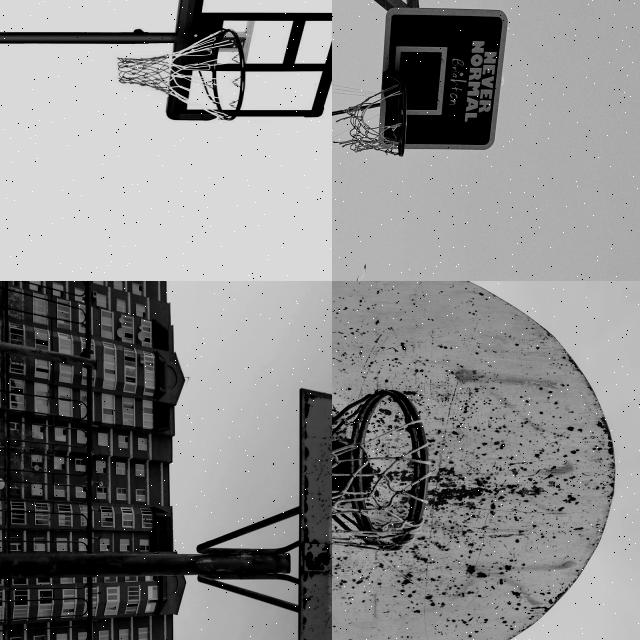backboard: (332, 281, 610, 640), (145, 0, 332, 120), (384, 11, 512, 149), (293, 383, 332, 640)
